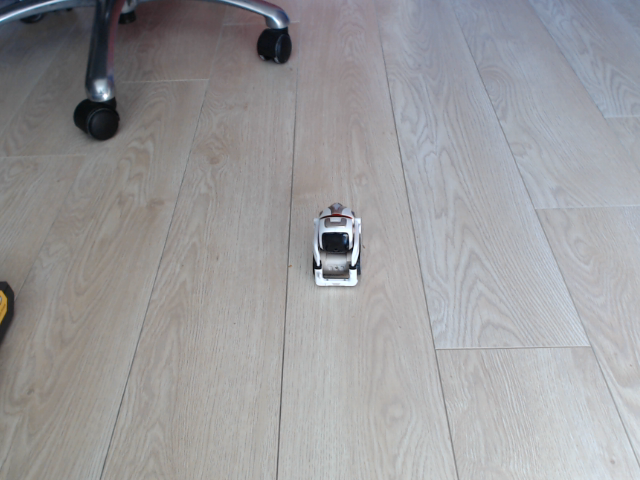cozmo: (310, 201, 364, 289)
